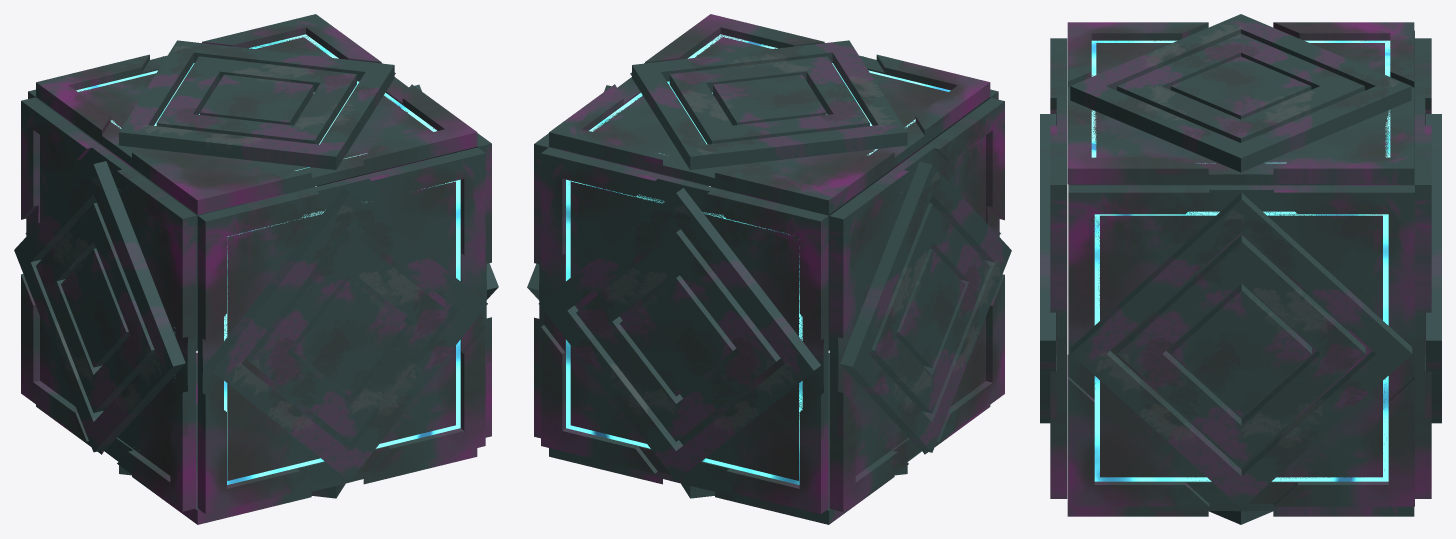
The model's file is rubik's cube.fbx.
3 renders of one model, left to right at view 1: azimuth 30°, elevation 25°; view 2: azimuth 150°, elevation 25°; view 3: azimuth 270°, elevation 25°, orthographic. The views are drawn at different scales.
Visible parts, largest first — view 1: Plane.114, Cube.033, Plane.108, Cube.027, Plane.110, Cube.029, Plane.105, Plane.112, Plane.115, Plane.111, Plane.103; view 2: Plane.103, Cube.022, Plane.108, Cube.027, Plane.110, Cube.029, Plane.105, Plane.106, Plane.112, Plane.114, Plane.111; view 3: Plane.112, Cube.031, Cube.029, Plane.110, Plane.114, Plane.103, Plane.113, Plane.105, Cube.022, Cube.033, Plane.111, Plane.108 (+1 smaller).
Part boxes in pixels (left/top/right/bottom): Plane.114: left=197, top=147, right=485, bottom=513; Cube.033: left=205, top=188, right=487, bottom=481; Plane.108: left=21, top=97, right=196, bottom=511; Cube.027: left=14, top=161, right=185, bottom=452; Plane.110: left=36, top=14, right=477, bottom=214; Cube.029: left=119, top=40, right=394, bottom=169; Plane.105: left=36, top=353, right=477, bottom=524; Plane.112: left=316, top=63, right=491, bottom=437; Plane.115: left=224, top=179, right=460, bottom=484; Plane.111: left=76, top=34, right=436, bottom=170; Plane.103: left=28, top=89, right=315, bottom=350; Plane.103: left=541, top=147, right=828, bottom=514; Cube.022: left=538, top=188, right=820, bottom=481; Plane.108: left=829, top=98, right=1004, bottom=511; Cube.027: left=840, top=161, right=1011, bottom=452; Plane.110: left=549, top=14, right=990, bottom=214; Cube.029: left=632, top=40, right=907, bottom=169; Plane.105: left=549, top=353, right=990, bottom=524; Plane.106: left=566, top=179, right=802, bottom=484; Plane.112: left=534, top=63, right=708, bottom=438; Plane.114: left=710, top=89, right=998, bottom=350; Plane.111: left=589, top=34, right=950, bottom=155; Plane.112: left=1068, top=185, right=1414, bottom=506; Cube.031: left=1071, top=192, right=1412, bottom=508; Cube.029: left=1070, top=14, right=1411, bottom=172; Plane.110: left=1067, top=22, right=1414, bottom=184; Plane.114: left=1050, top=38, right=1067, bottom=498; Plane.103: left=1414, top=38, right=1431, bottom=498; Plane.113: left=1094, top=211, right=1388, bottom=481; Plane.105: left=1067, top=355, right=1414, bottom=516; Cube.022: left=1426, top=114, right=1441, bottom=423; Cube.033: left=1040, top=114, right=1055, bottom=423; Plane.111: left=1091, top=40, right=1390, bottom=163; Plane.108: left=1068, top=30, right=1414, bottom=185.
Size of the model in its own units: 220 by 220 by 219.
